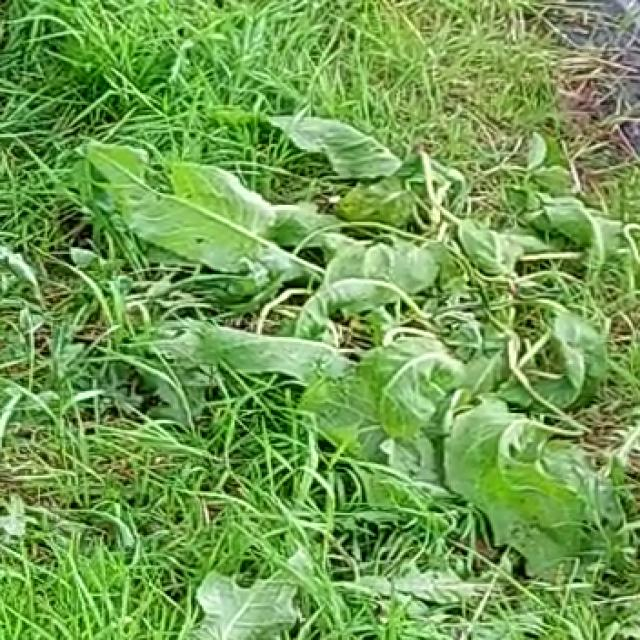organic waste: (63, 113, 640, 475)
